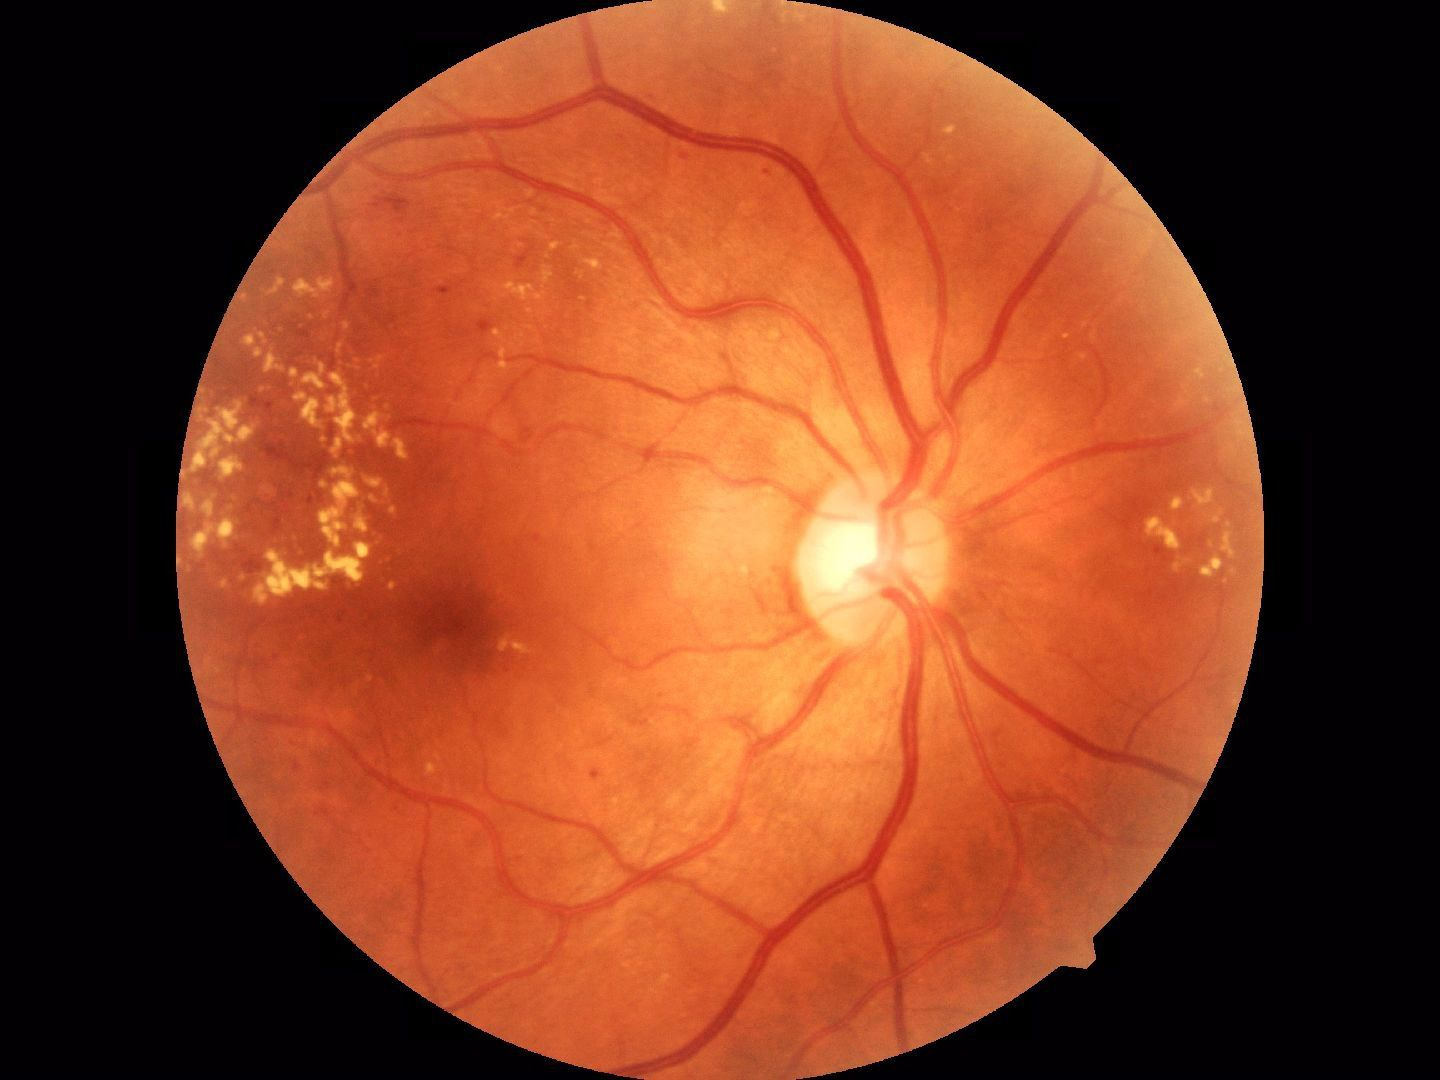Exudates: (190, 345, 383, 613), (473, 188, 612, 356), (1130, 450, 1237, 604)
Hemorrhages: (408, 562, 525, 686)
Optic-Disc: (810, 462, 946, 658)
Venules: (773, 748, 891, 1021), (664, 101, 848, 241)
